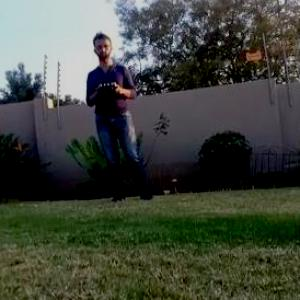follow: (81, 22, 159, 202)
